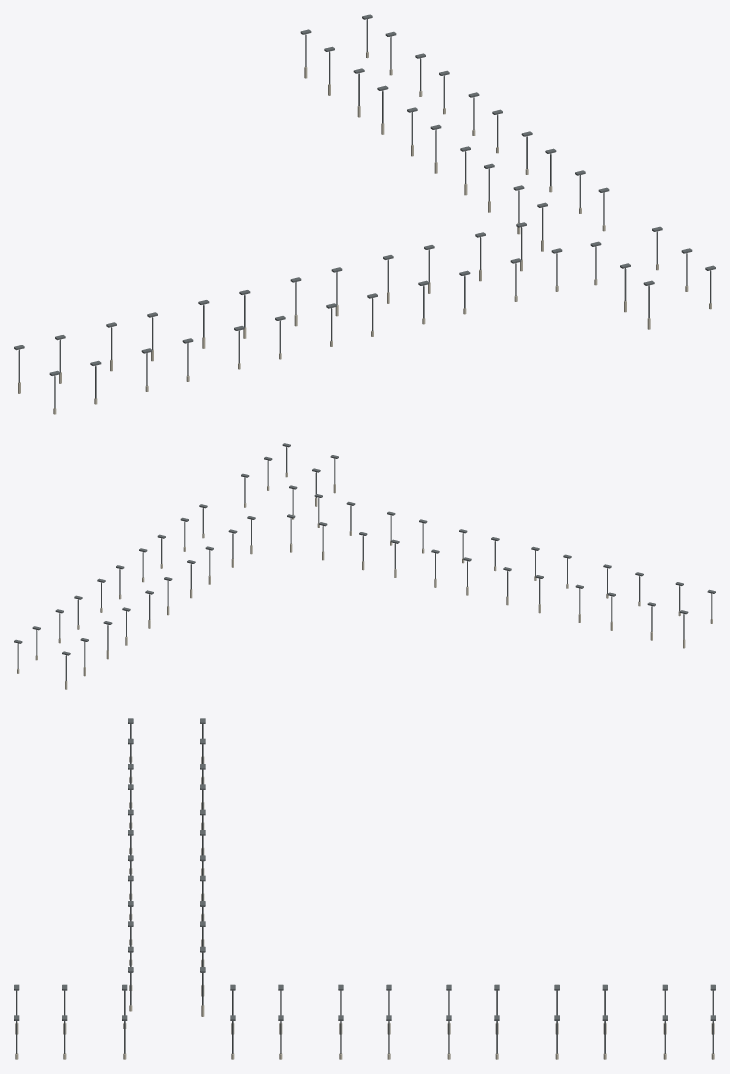
3 views of the same model, one above another, from view 1: azimuth 30°, elevation 25°; view 2: azimuth 150°, elevation 25°; view 3: azimuth 270°, elevation 25° (orthographic). The views are drawn at different scales.
Visible parts, largest first — view 1: buildings_s_-11_-5_Dark_Metal, buildings_s_-11_-5_Warm_Limestone; view 2: buildings_s_-11_-5_Dark_Metal, buildings_s_-11_-5_Warm_Limestone; view 3: buildings_s_-11_-5_Dark_Metal, buildings_s_-11_-5_Warm_Limestone.
Boxes of the visible parts, x1,y1,x2,y2 form: buildings_s_-11_-5_Dark_Metal: (14,14,715,408); buildings_s_-11_-5_Warm_Limestone: (18,51,711,414); buildings_s_-11_-5_Dark_Metal: (14,443,715,681); buildings_s_-11_-5_Warm_Limestone: (17,472,712,689); buildings_s_-11_-5_Dark_Metal: (14,718,715,1053); buildings_s_-11_-5_Warm_Limestone: (15,756,714,1059).
Bounding box in the file's own units: 119 × 8.68 × 117.
